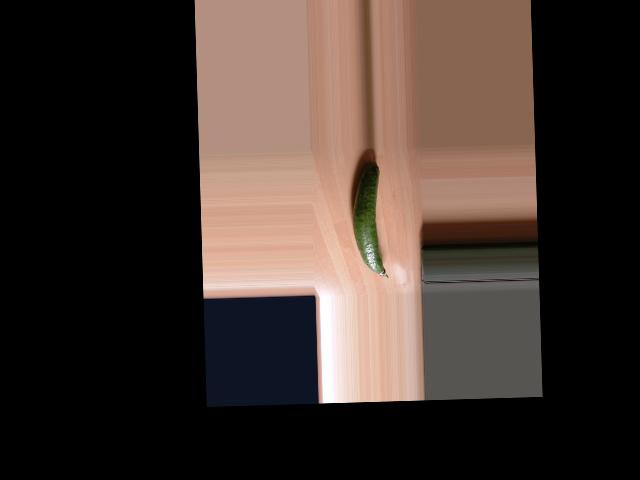cucumber: (350, 160, 388, 280)
